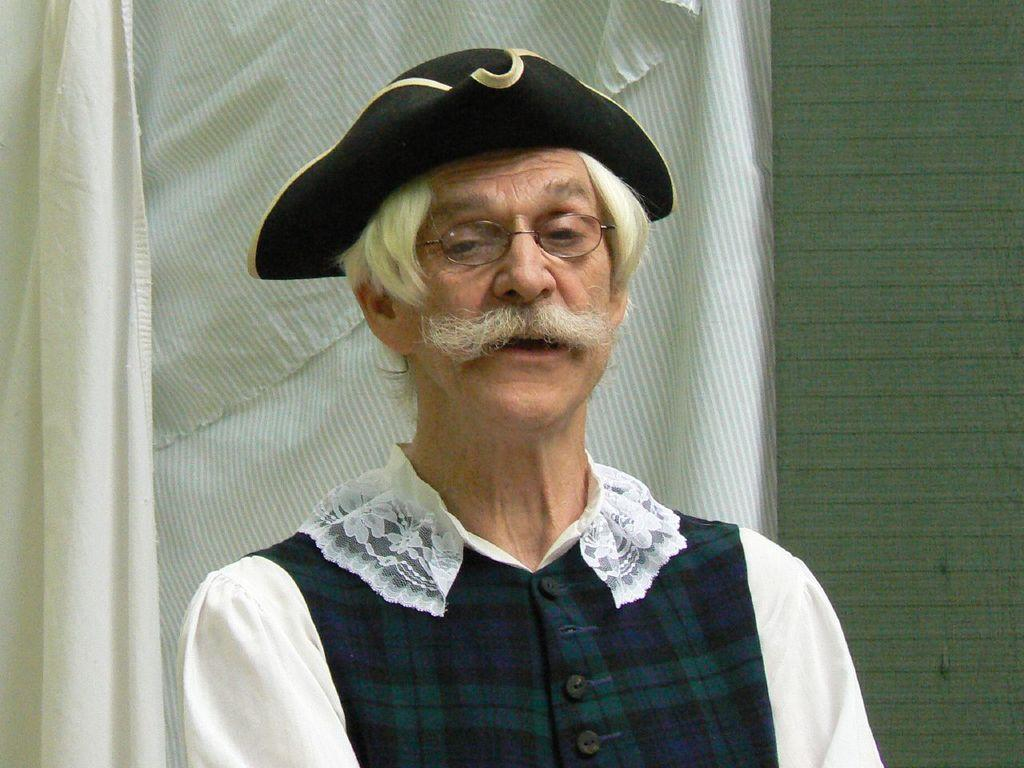Hat: (242, 45, 676, 281)
